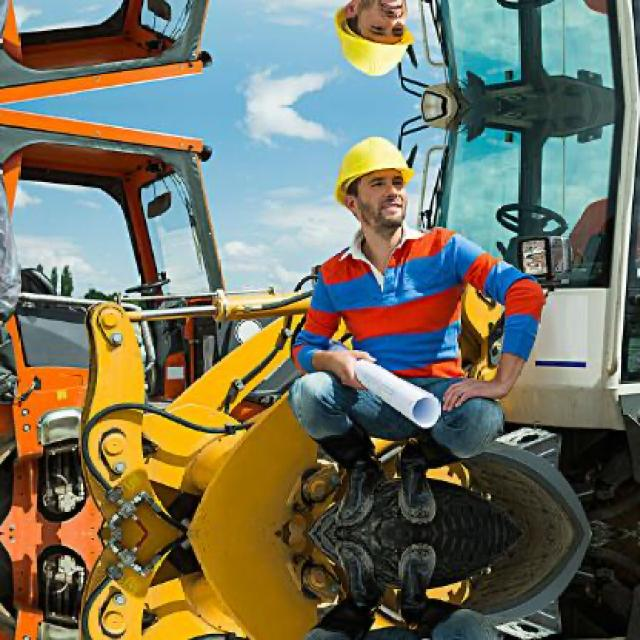helmet: (320, 131, 418, 236), (320, 0, 420, 83)
